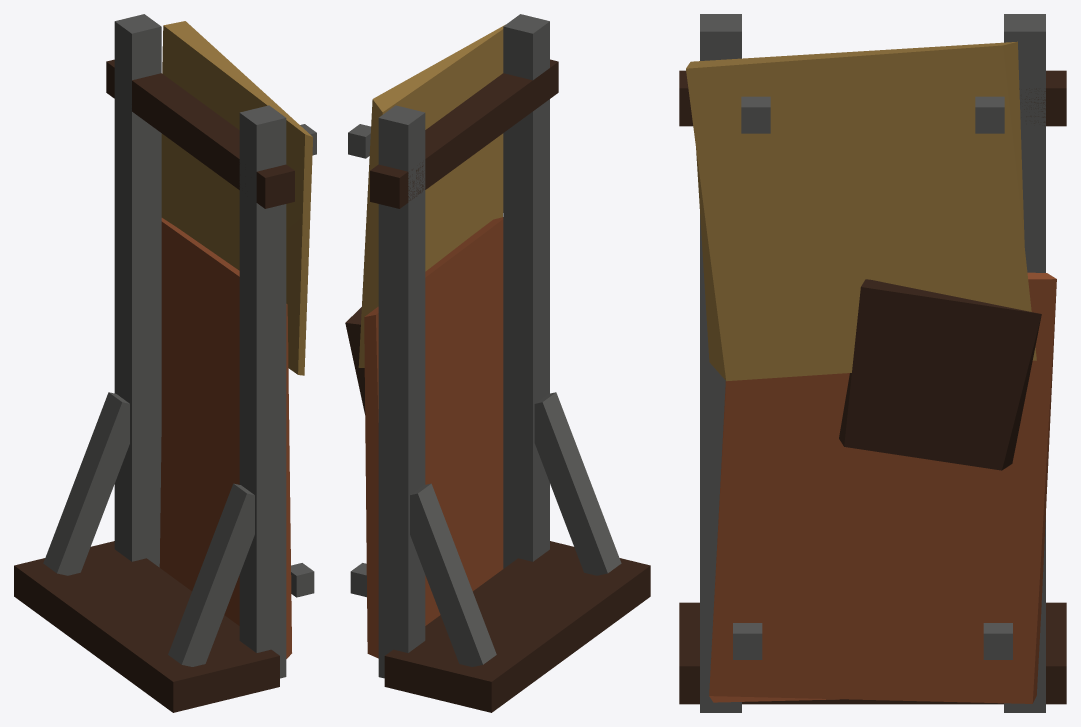
The model's file is arm_scrap_sheet.glb.
The picture shows the model from 3 angles, left to right: view 1: azimuth 30°, elevation 25°; view 2: azimuth 150°, elevation 25°; view 3: azimuth 270°, elevation 25°; orthographic projection. The views are drawn at different scales.
Parts seen in each view (by area): view 1: arm_scrap_sheet; view 2: arm_scrap_sheet; view 3: arm_scrap_sheet.
Part boxes in pixels (x1,y1,x2,y2): arm_scrap_sheet: [14, 14, 316, 712]; arm_scrap_sheet: [345, 14, 650, 712]; arm_scrap_sheet: [679, 14, 1066, 712].
Bounding box in the file's own units: 0.285 × 0.9003 × 0.464.
